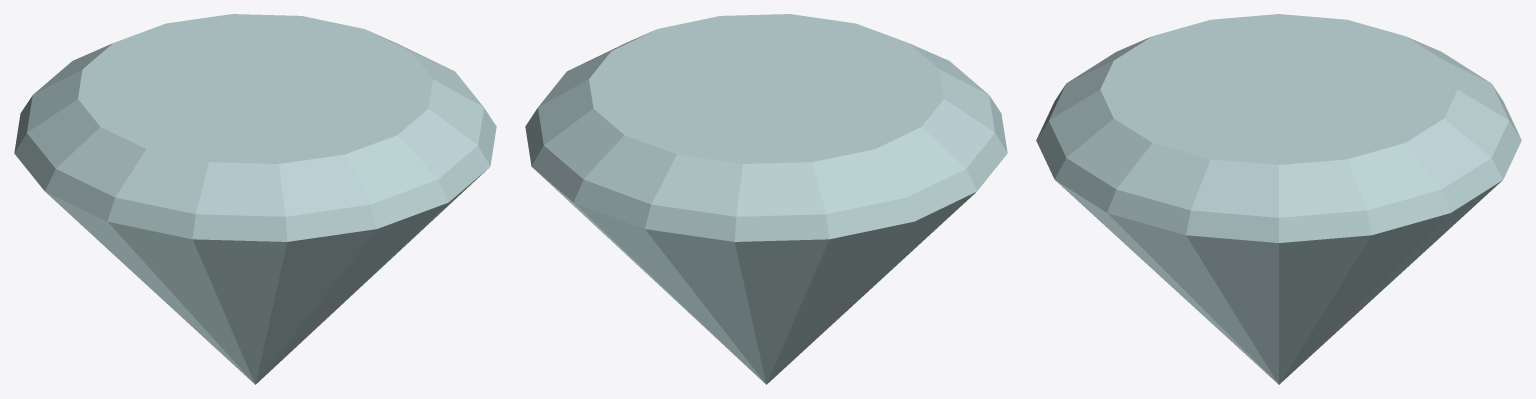
The model's file is Diamond.fbx.
3 renders of one model, left to right at view 1: azimuth 30°, elevation 25°; view 2: azimuth 150°, elevation 25°; view 3: azimuth 270°, elevation 25°, orthographic.
Parts seen in each view (by area): view 1: 円.001; view 2: 円.001; view 3: 円.001.
Part boxes in pixels (box(x1,y1,x2,y2)): 円.001: box(14, 14, 496, 384); 円.001: box(525, 14, 1007, 384); 円.001: box(1036, 14, 1521, 384).
Size of the model in its own units: 200 by 134 by 200.
